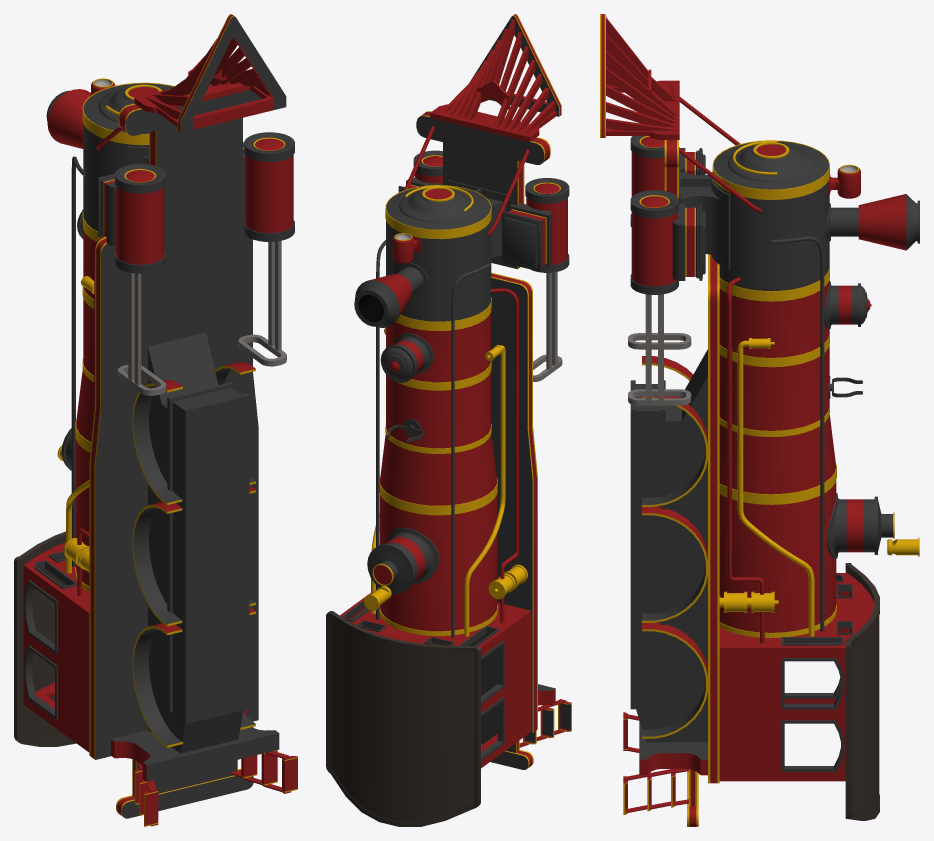
The model's file is SteamLocomotive_01_LOD1.fbx.
The picture shows the model from 3 angles, left to right: view 1: azimuth 30°, elevation 25°; view 2: azimuth 150°, elevation 25°; view 3: azimuth 270°, elevation 25°; orthographic projection. The views are drawn at different scales.
Visible parts, largest first — view 1: SteamLocomotive_01_LOD1; view 2: SteamLocomotive_01_LOD1; view 3: SteamLocomotive_01_LOD1.
Part boxes in pixels (left/top/right/bottom): SteamLocomotive_01_LOD1: left=14, top=14, right=297, bottom=826; SteamLocomotive_01_LOD1: left=326, top=14, right=571, bottom=826; SteamLocomotive_01_LOD1: left=600, top=14, right=919, bottom=826.
Bounding box in the file's own units: 3.34 × 15.03 × 5.5.
